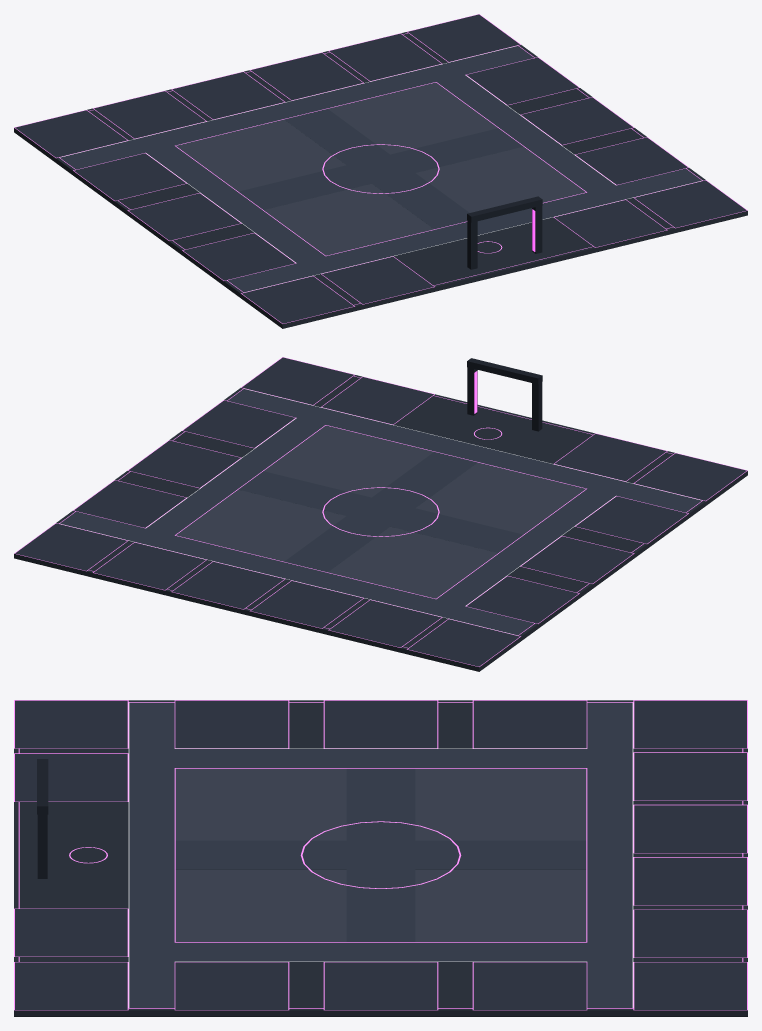
The picture shows the model from 3 angles, top to bottom: view 1: azimuth 30°, elevation 25°; view 2: azimuth 150°, elevation 25°; view 3: azimuth 270°, elevation 25°; orthographic projection. The views are drawn at different scales.
Visible parts, largest first — view 1: district_pixel.lod1; view 2: district_pixel.lod1; view 3: district_pixel.lod1.
Boxes of the visible parts, x1,y1,x2,y2 form: district_pixel.lod1: [14, 14, 747, 328]; district_pixel.lod1: [14, 357, 747, 671]; district_pixel.lod1: [14, 700, 747, 1016].
Size of the model in its own units: 64 by 7.62 by 64.
